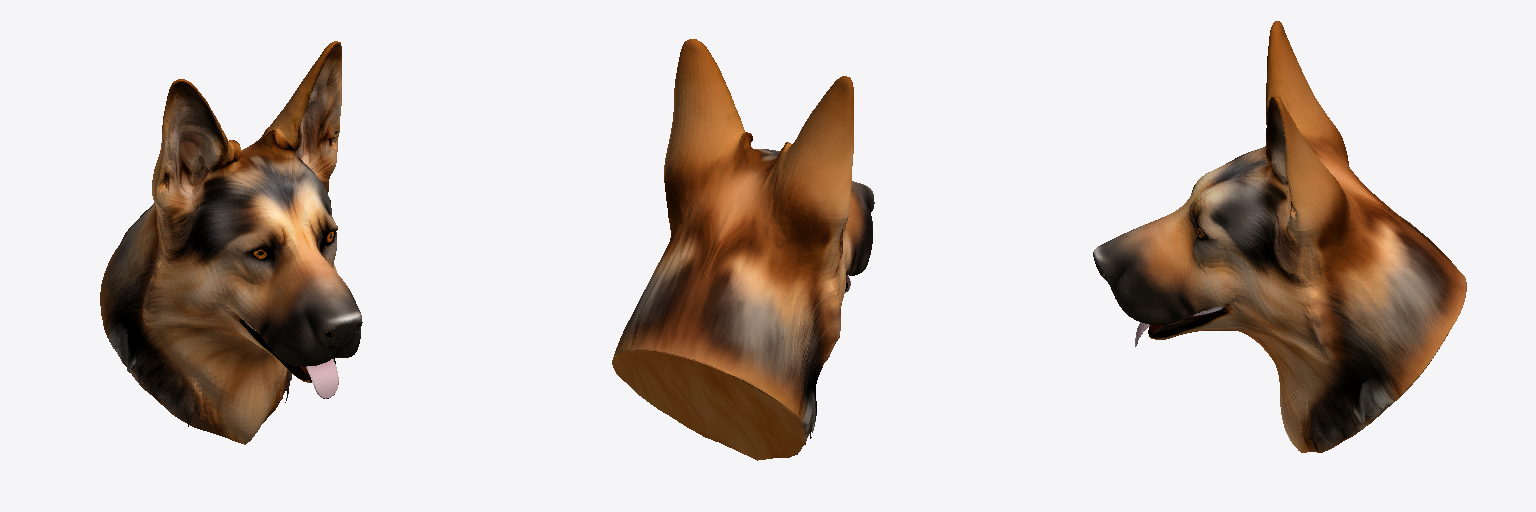
3 views of the same model, side by side, from view 1: azimuth 30°, elevation 25°; view 2: azimuth 150°, elevation 25°; view 3: azimuth 270°, elevation 25° (orthographic).
Size of the model in its own units: 0.9286 by 1.9 by 1.63.
1 materials, 1 textured.